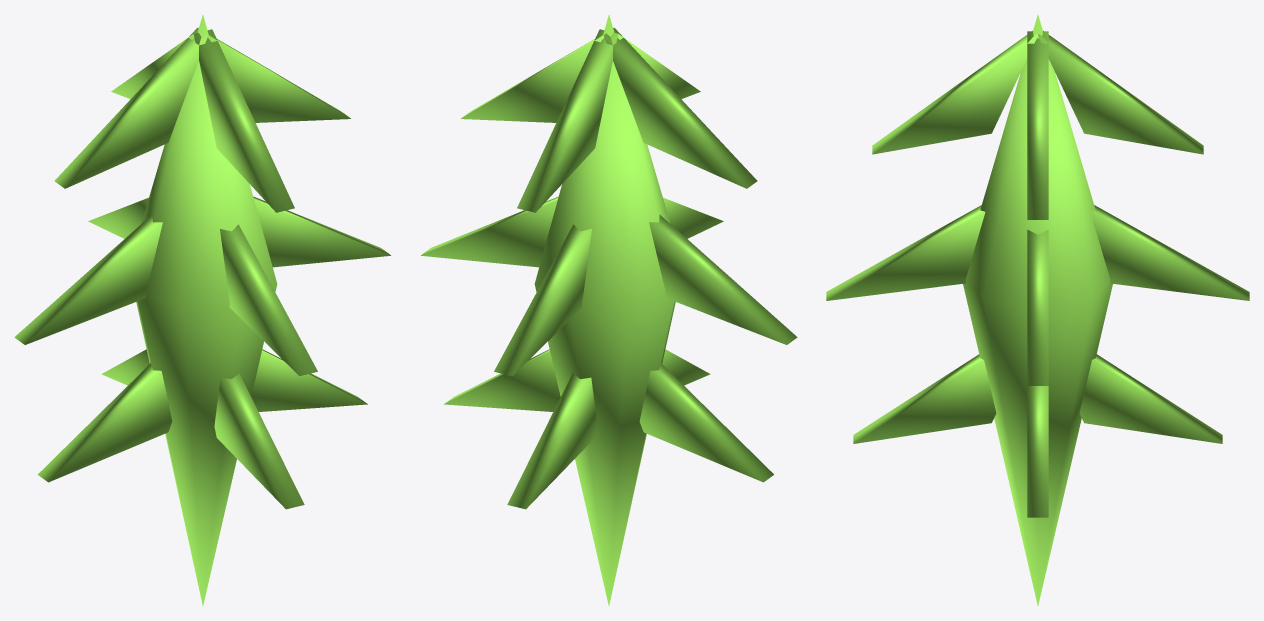
The model's file is marisa_missile.gltf.
The picture shows the model from 3 angles, left to right: view 1: azimuth 30°, elevation 25°; view 2: azimuth 150°, elevation 25°; view 3: azimuth 270°, elevation 25°; orthographic projection.
Parts seen in each view (by area): view 1: DiamondCore, ArrowWing, ArrowWing.004, ArrowWing.003, ArrowWing.008, ArrowWing.007, ArrowWing.011, ArrowWing.005, ArrowWing.001, ArrowWing.009, ArrowWing.006, ArrowWing.002 (+1 smaller); view 2: DiamondCore, ArrowWing, ArrowWing.004, ArrowWing.002, ArrowWing.008, ArrowWing.006, ArrowWing.010, ArrowWing.005, ArrowWing.001, ArrowWing.009, ArrowWing.007, ArrowWing.003 (+1 smaller); view 3: DiamondCore, ArrowWing.002, ArrowWing.003, ArrowWing.006, ArrowWing.007, ArrowWing.010, ArrowWing.011, ArrowWing.001, ArrowWing.005, ArrowWing.009.
Part boxes in pixels (x1,y1,x2,y2): DiamondCore: (136, 15, 277, 605); ArrowWing: (54, 27, 208, 188); ArrowWing.004: (14, 214, 162, 344); ArrowWing.003: (193, 29, 294, 212); ArrowWing.008: (38, 363, 172, 482); ArrowWing.007: (220, 224, 317, 376); ArrowWing.011: (214, 373, 304, 509); ArrowWing.005: (253, 196, 390, 267); ArrowWing.001: (207, 34, 350, 122); ArrowWing.009: (251, 349, 367, 411); ArrowWing.006: (88, 197, 148, 238); ArrowWing.002: (111, 34, 194, 98); DiamondCore: (534, 15, 675, 605); ArrowWing: (603, 27, 757, 188); ArrowWing.004: (649, 214, 797, 344); ArrowWing.002: (517, 29, 618, 212); ArrowWing.008: (639, 363, 773, 482); ArrowWing.006: (494, 224, 591, 376); ArrowWing.010: (507, 373, 597, 509); ArrowWing.005: (421, 196, 558, 267); ArrowWing.001: (461, 34, 604, 122); ArrowWing.009: (444, 349, 560, 411); ArrowWing.007: (663, 197, 723, 238); ArrowWing.003: (617, 34, 700, 98); DiamondCore: (963, 15, 1112, 605); ArrowWing.002: (1038, 30, 1203, 154); ArrowWing.003: (872, 30, 1037, 154); ArrowWing.006: (1090, 205, 1249, 300); ArrowWing.007: (826, 205, 985, 300); ArrowWing.010: (1079, 354, 1222, 443); ArrowWing.011: (853, 354, 996, 443); ArrowWing.001: (1027, 31, 1048, 219); ArrowWing.005: (1027, 229, 1048, 385); ArrowWing.009: (1027, 386, 1048, 517).
Bounding box in the file's own units: 1.1 × 1.7 × 1.1.
